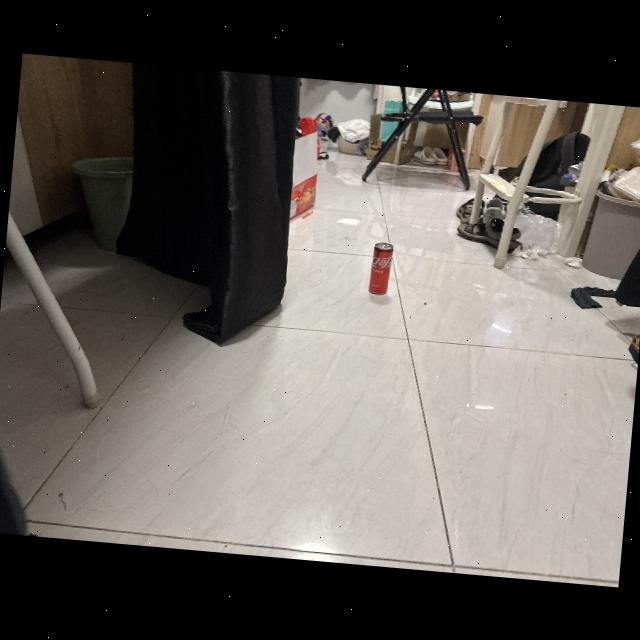Cola: (361, 234, 403, 302)
